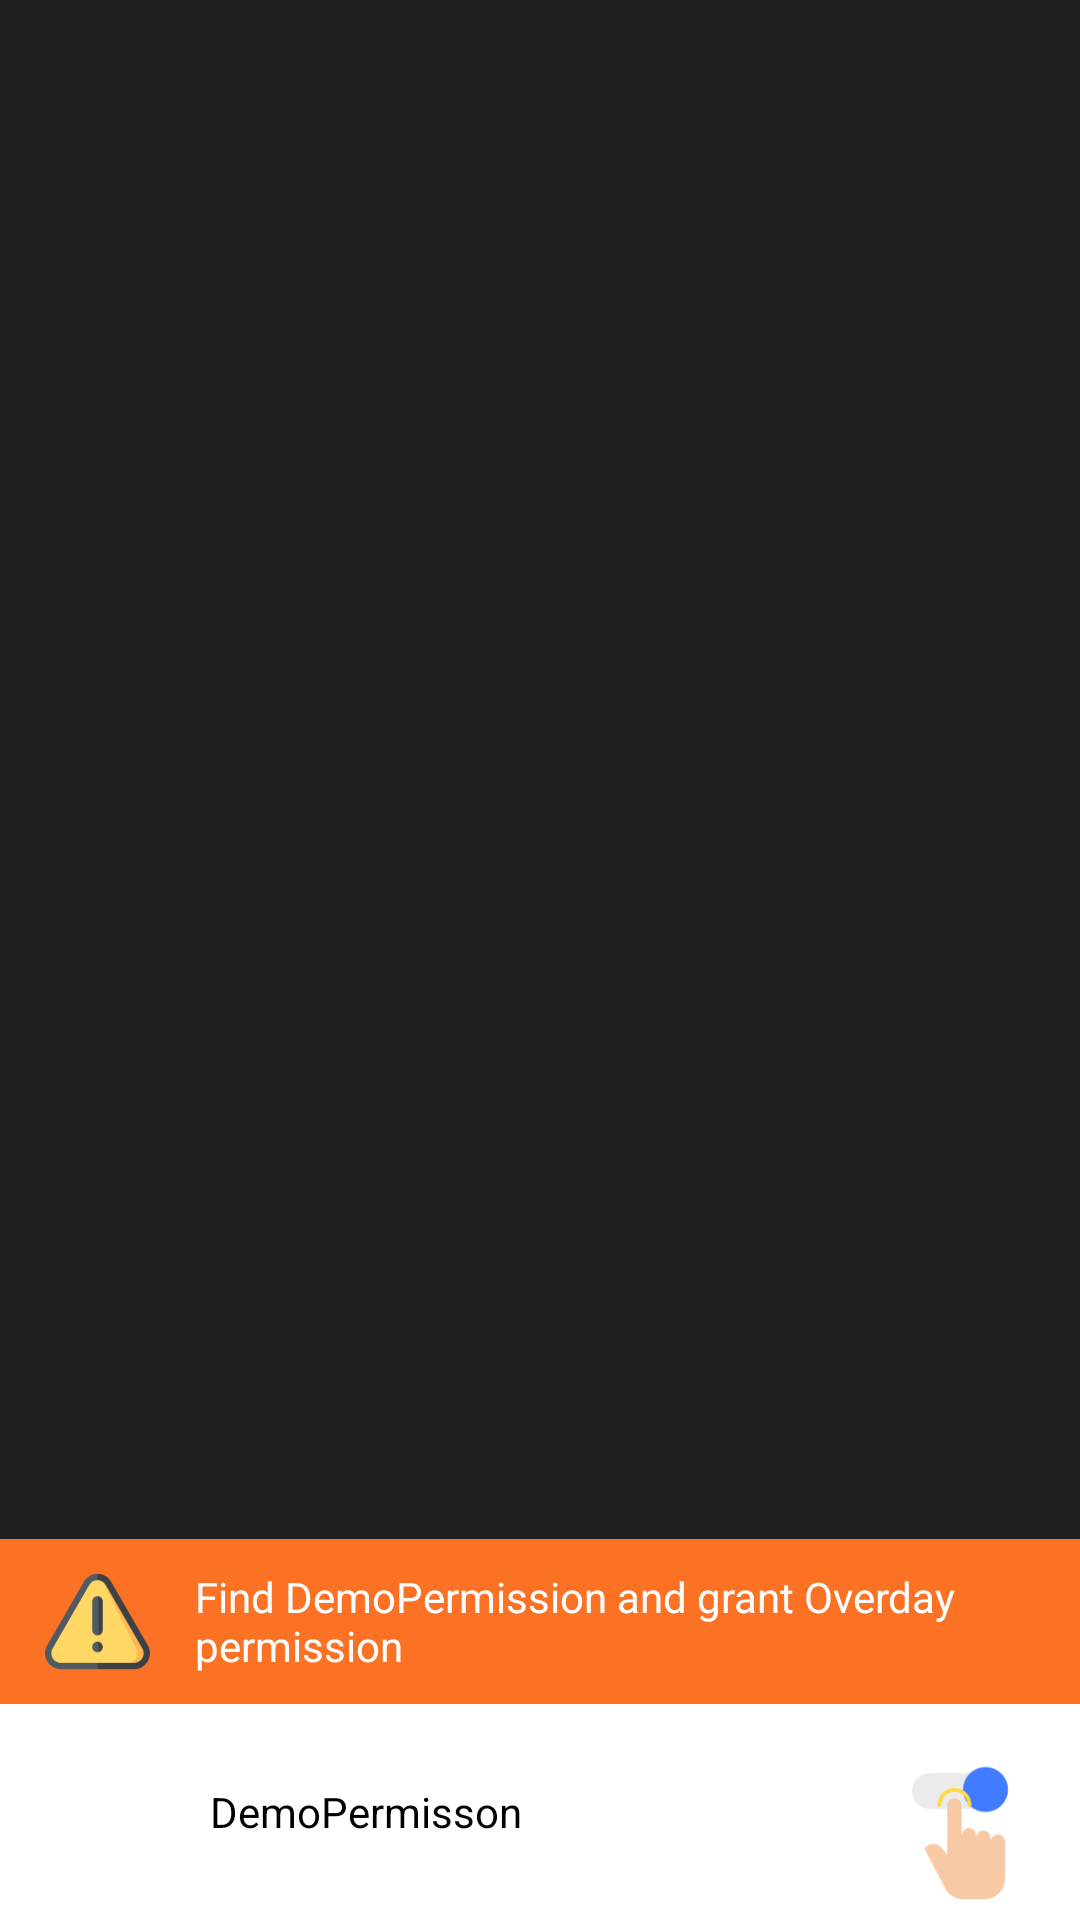

Named icons in this screenshot (1080w x 1920h) and their bounding boxes, (x1,y1,x2,y2):
pointing hand: (924,1766,1009,1899)
warning: (45,1573,150,1670)
